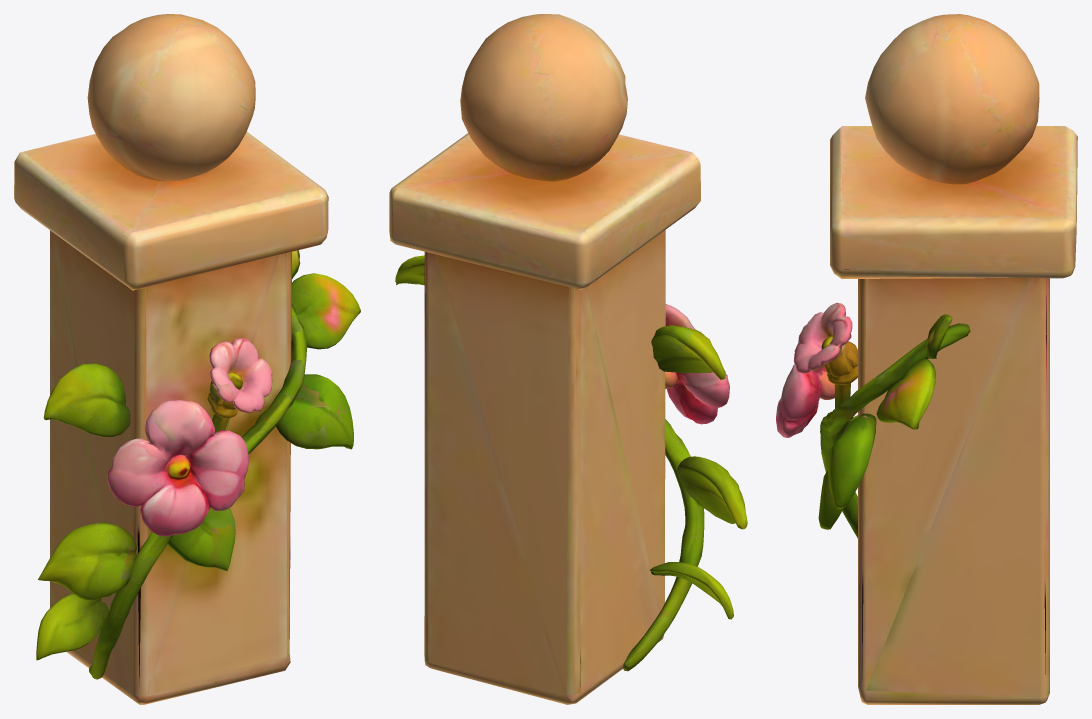
File: fencepost.glb
The picture shows the model from 3 angles, left to right: view 1: azimuth 30°, elevation 25°; view 2: azimuth 150°, elevation 25°; view 3: azimuth 270°, elevation 25°; orthographic projection. The views are drawn at different scales.
Visible parts, largest first — view 1: geometry_0; view 2: geometry_0; view 3: geometry_0.
Part boxes in pixels (<box>): geometry_0: <box>14,14,360,704</box>; geometry_0: <box>389,14,747,704</box>; geometry_0: <box>776,14,1077,704</box>.
Bounding box in the file's own units: 0.5269 × 0.9502 × 0.3994.
Materials: 1 (1 with a texture image).
